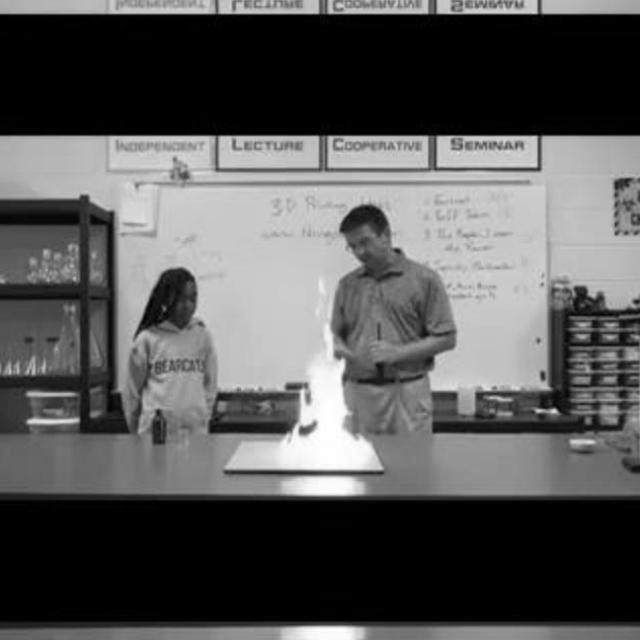smoke: (290, 320, 362, 466)
